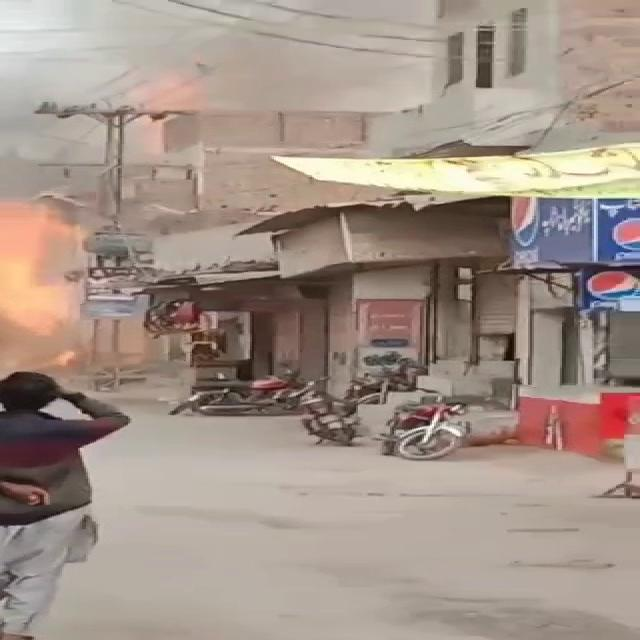Fire: (0, 206, 86, 382)
